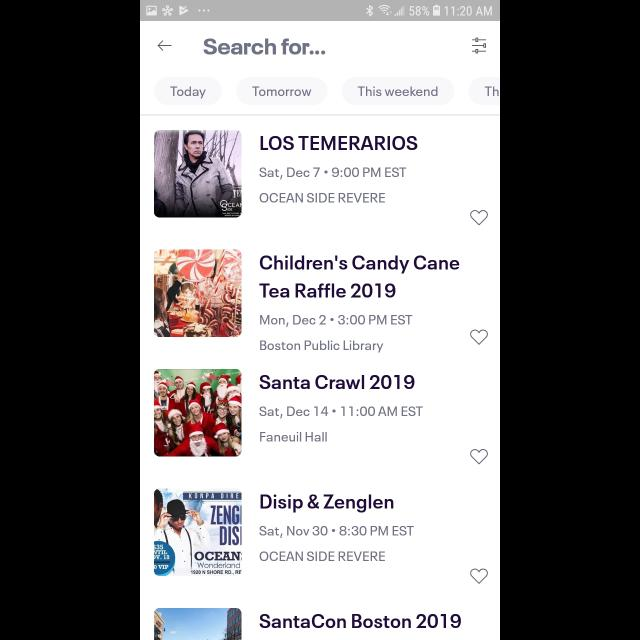icon: (470, 568, 488, 584), (470, 449, 488, 465), (470, 330, 488, 346), (470, 210, 488, 226), (472, 38, 486, 54), (158, 40, 172, 51)
image: (154, 488, 242, 576), (154, 369, 242, 457), (154, 250, 242, 338), (154, 130, 242, 218), (154, 608, 242, 640)
text: (260, 256, 460, 298), (259, 614, 461, 628), (261, 494, 394, 514), (260, 374, 414, 390), (260, 136, 418, 150), (204, 38, 326, 56), (260, 314, 412, 328), (260, 406, 424, 418), (260, 526, 414, 538), (259, 168, 406, 180), (260, 341, 384, 353), (259, 551, 385, 561), (259, 193, 385, 203), (260, 432, 328, 442)
textbutton: (342, 77, 454, 105), (236, 78, 328, 106), (154, 77, 222, 105), (468, 77, 499, 105)
uppertaskbar: (140, 1, 500, 22)
